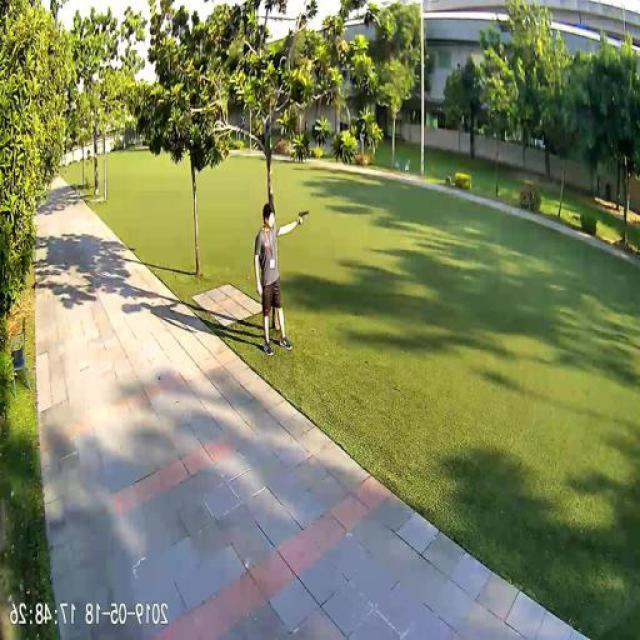weapon: (296, 210, 312, 228)
